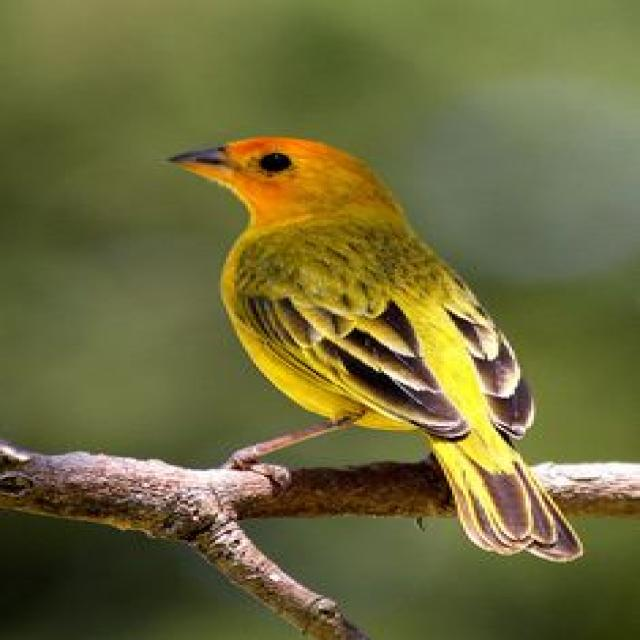Herbivorous: (163, 137, 580, 565)
